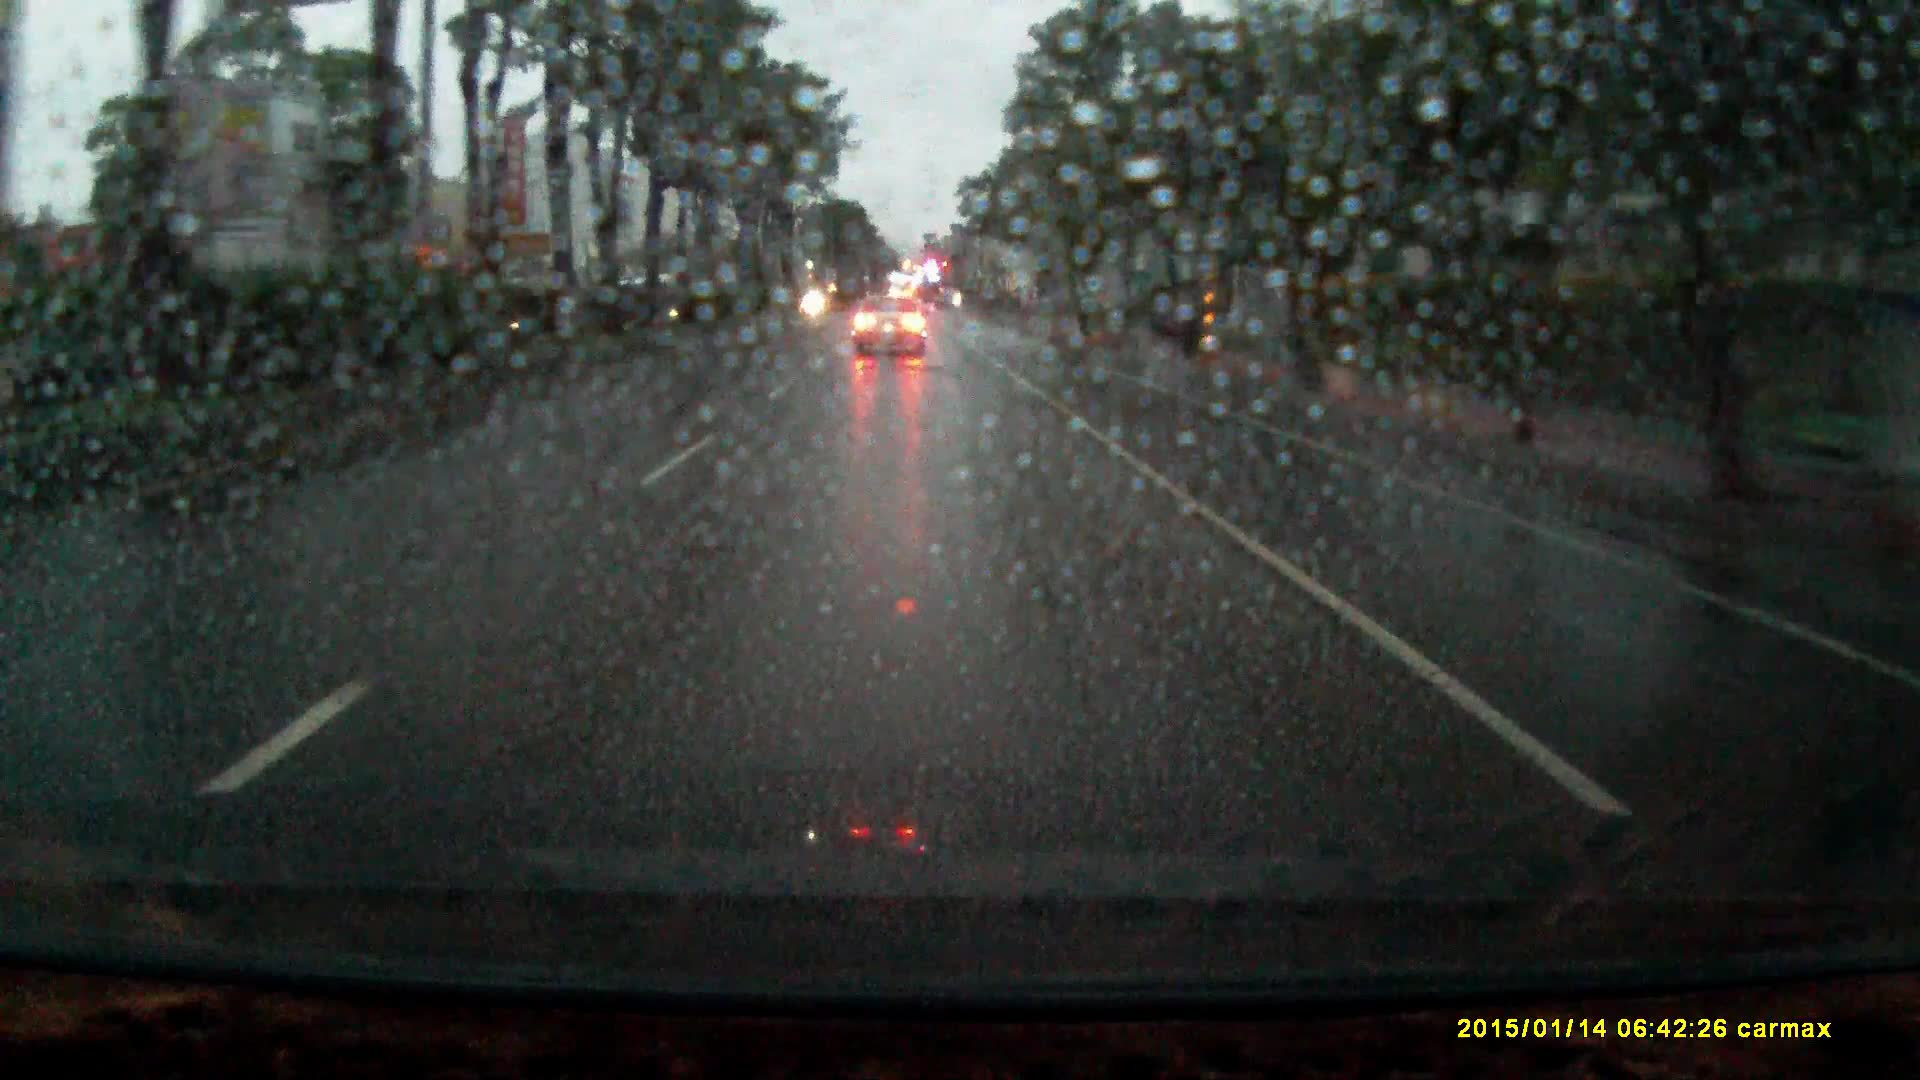vehicle: (851, 291, 931, 359)
